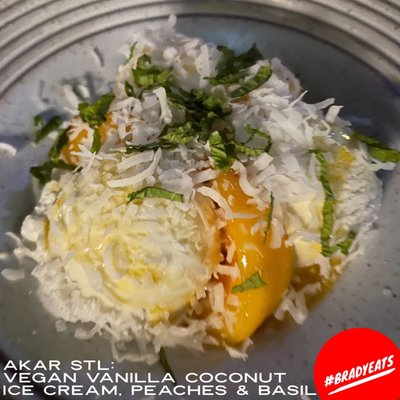curry: (78, 93, 115, 128)
